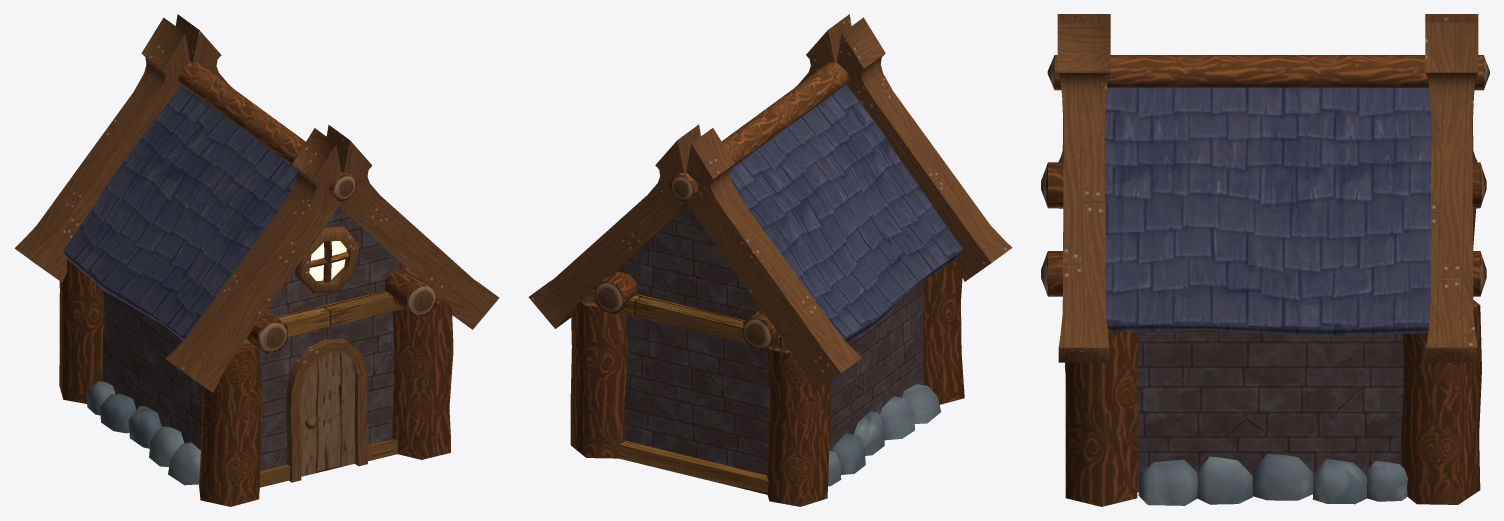
Rendered from Köybinası.glb.
3 renders of one model, left to right at view 1: azimuth 30°, elevation 25°; view 2: azimuth 150°, elevation 25°; view 3: azimuth 270°, elevation 25°, orthographic. The views are drawn at different scales.
Parts seen in each view (by area): view 1: Object_2; view 2: Object_2; view 3: Object_2.
Boxes of the visible parts, left/top/right/bottom form: Object_2: left=14, top=14, right=499, bottom=506; Object_2: left=528, top=14, right=1012, bottom=506; Object_2: left=1041, top=14, right=1489, bottom=506.
Bounding box in the file's own units: 9.77 × 10.16 × 9.95.
1 material, 1 textured.
